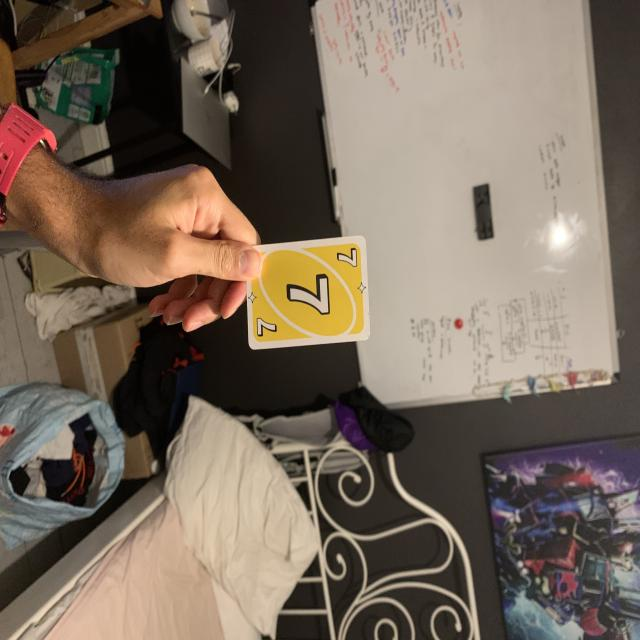lyellow-7: (331, 245, 362, 270)
